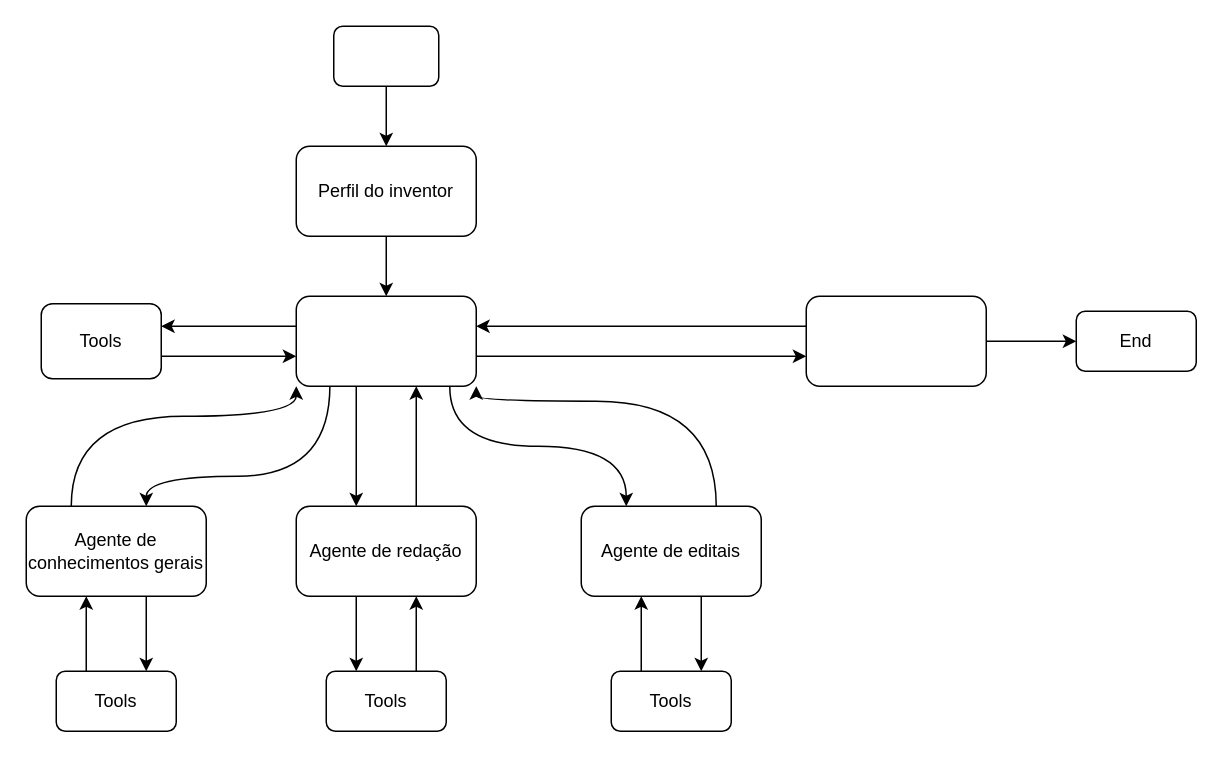
This 1223x758 diagram has some shape labels left out. Each missing label, with the centre of its shape:
"Orquestrador" belongs at pixel 385 340.
"Revisor" belongs at pixel 895 340.
"Start" belongs at pixel 385 55.
